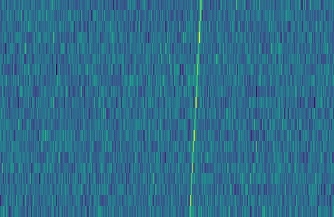signal: (185, 0, 206, 217)
